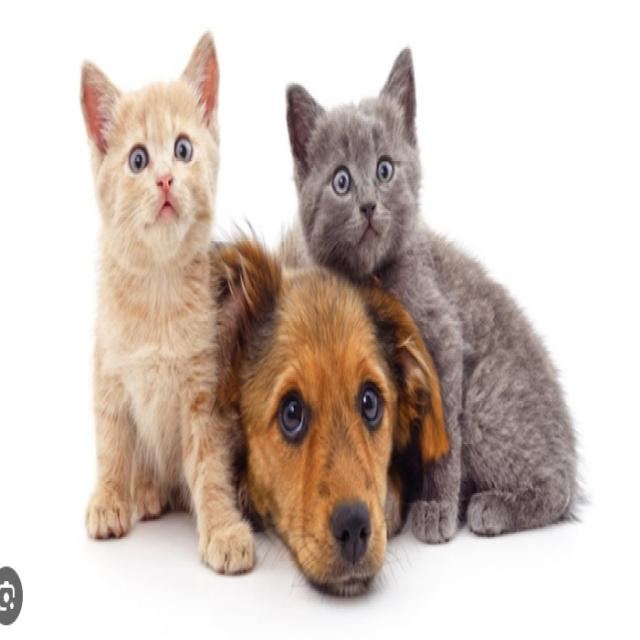cats: (72, 50, 241, 569), (280, 36, 541, 350)
dogs: (232, 254, 409, 568)
